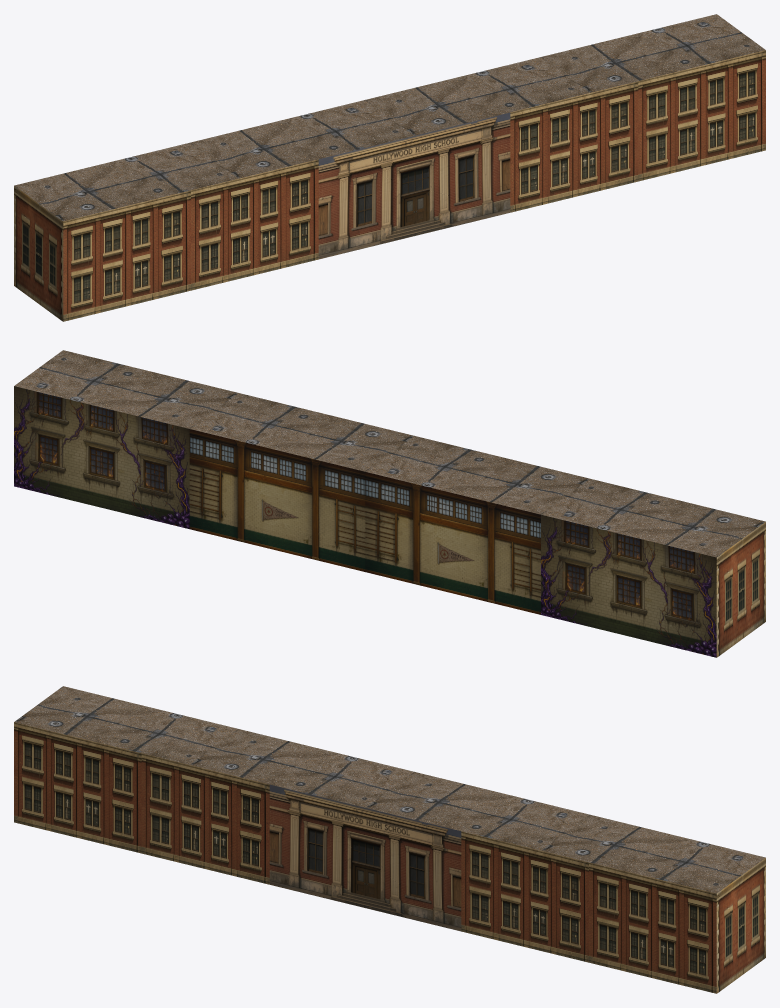
The model's file is LM_HollywoodHigh.fbx.
3 views of the same model, one above another, from view 1: azimuth 30°, elevation 25°; view 2: azimuth 150°, elevation 25°; view 3: azimuth 330°, elevation 25° (orthographic).
Visible parts, largest first — view 1: LM_HollywoodHigh; view 2: LM_HollywoodHigh; view 3: LM_HollywoodHigh.
Boxes of the visible parts, x1,y1,x2,y2 form: LM_HollywoodHigh: (14,14,765,321); LM_HollywoodHigh: (14,350,765,657); LM_HollywoodHigh: (14,686,765,993).
Size of the model in its own units: 66 by 8 by 9.
Materials: 1 (1 with a texture image).
